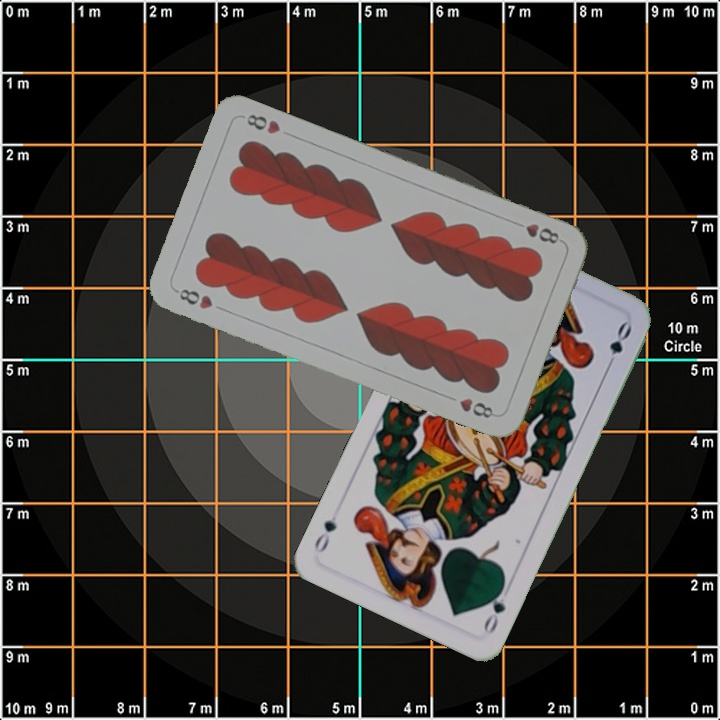GO: (479, 579, 508, 636)
H8: (509, 217, 562, 247), (171, 284, 216, 312)
